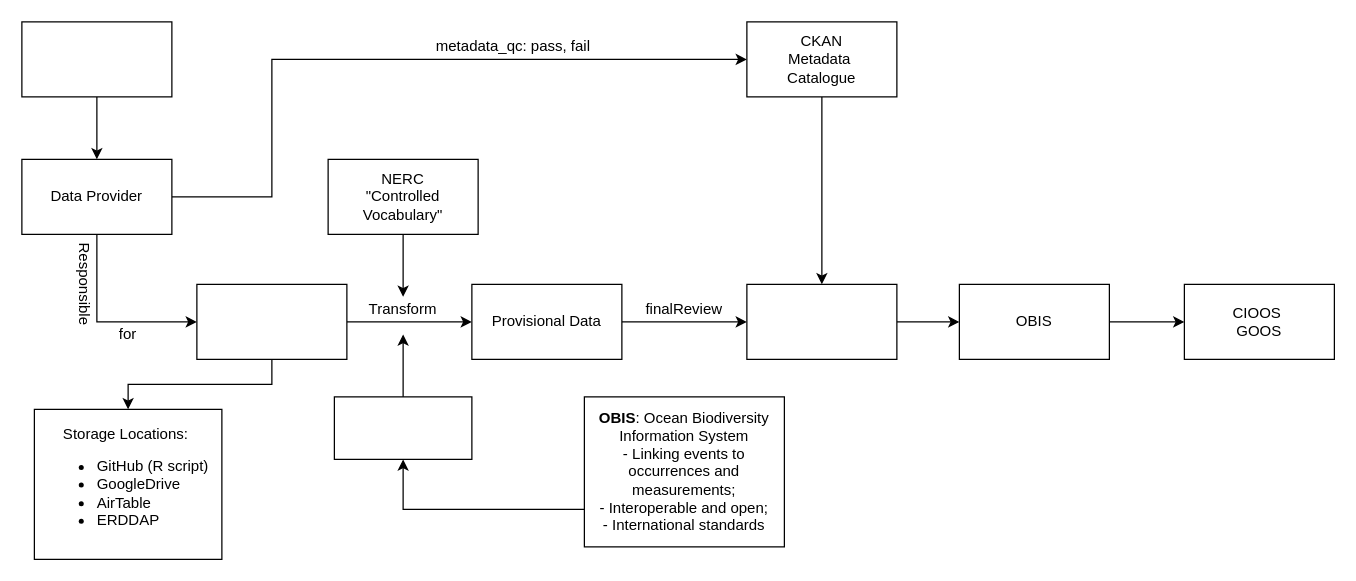
Some shapes in this 1356 by 581 pixel diagram are drawn without their labels. Each missing label, with the centre of its shape:
"Raw" Data: the point at 271,321
ERDDAP: the point at 821,321
Person Organization Institute: the point at 96,59
tidy: yes, no obis_qc: pass, fail: the point at 402,427
